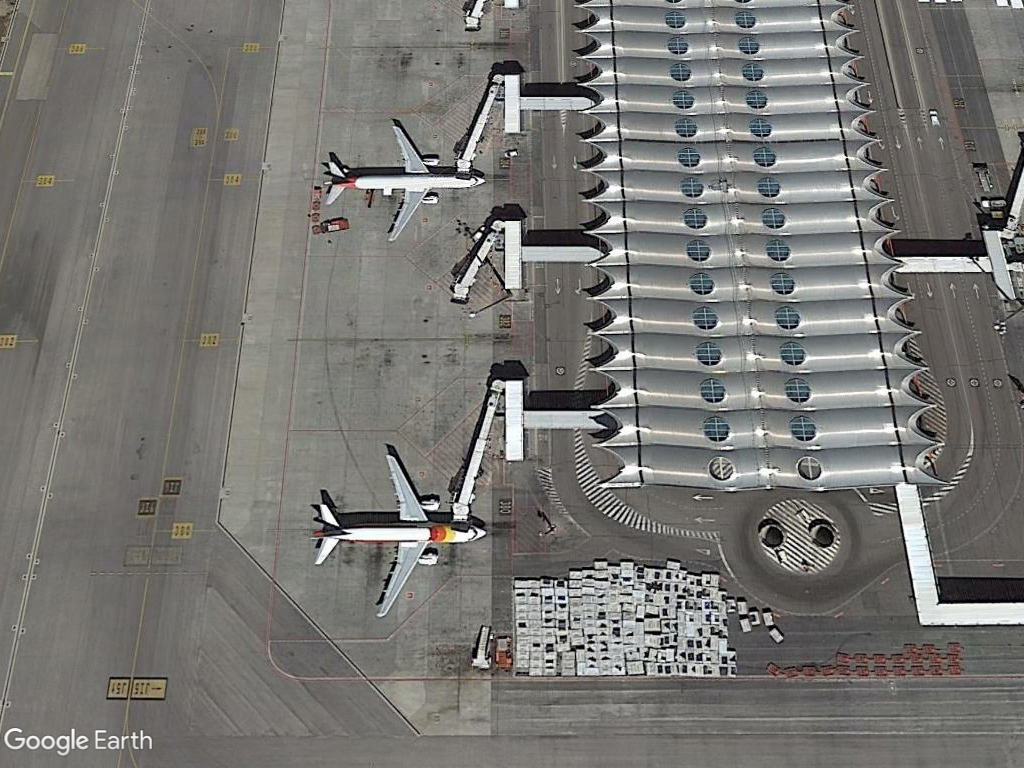airliner: (311, 447, 492, 623), (319, 122, 488, 246)
stairtruck: (472, 624, 494, 671)
